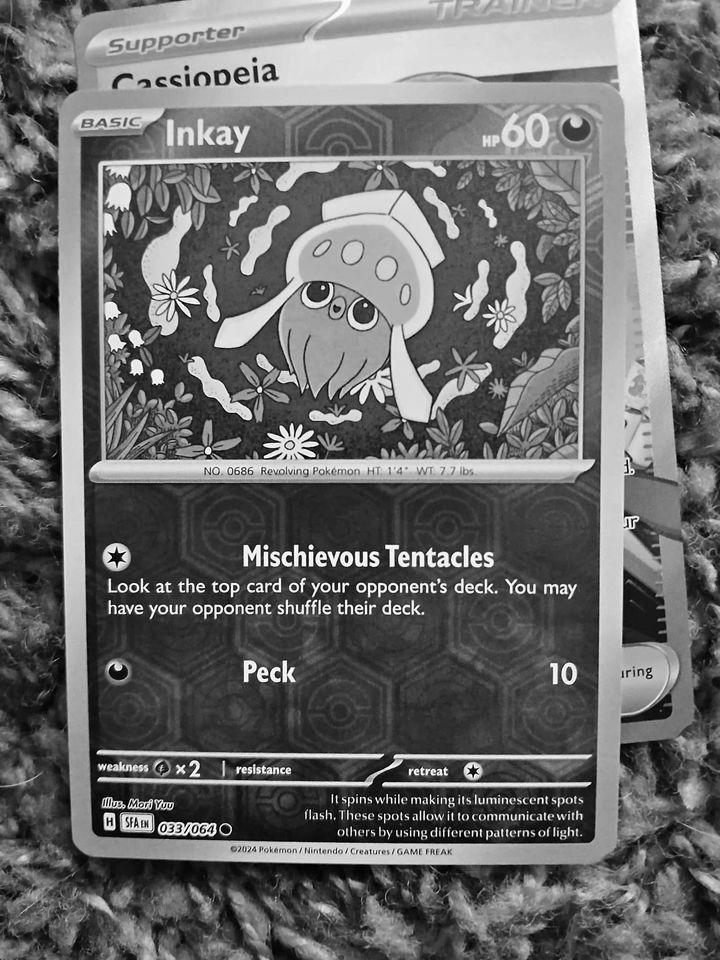card: (57, 81, 626, 870)
